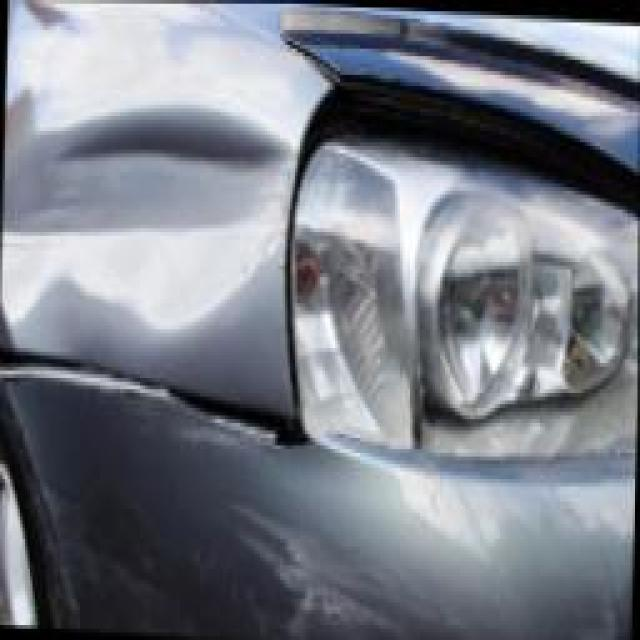Bumper: (5, 367, 636, 640)
Fender: (0, 0, 302, 426)
